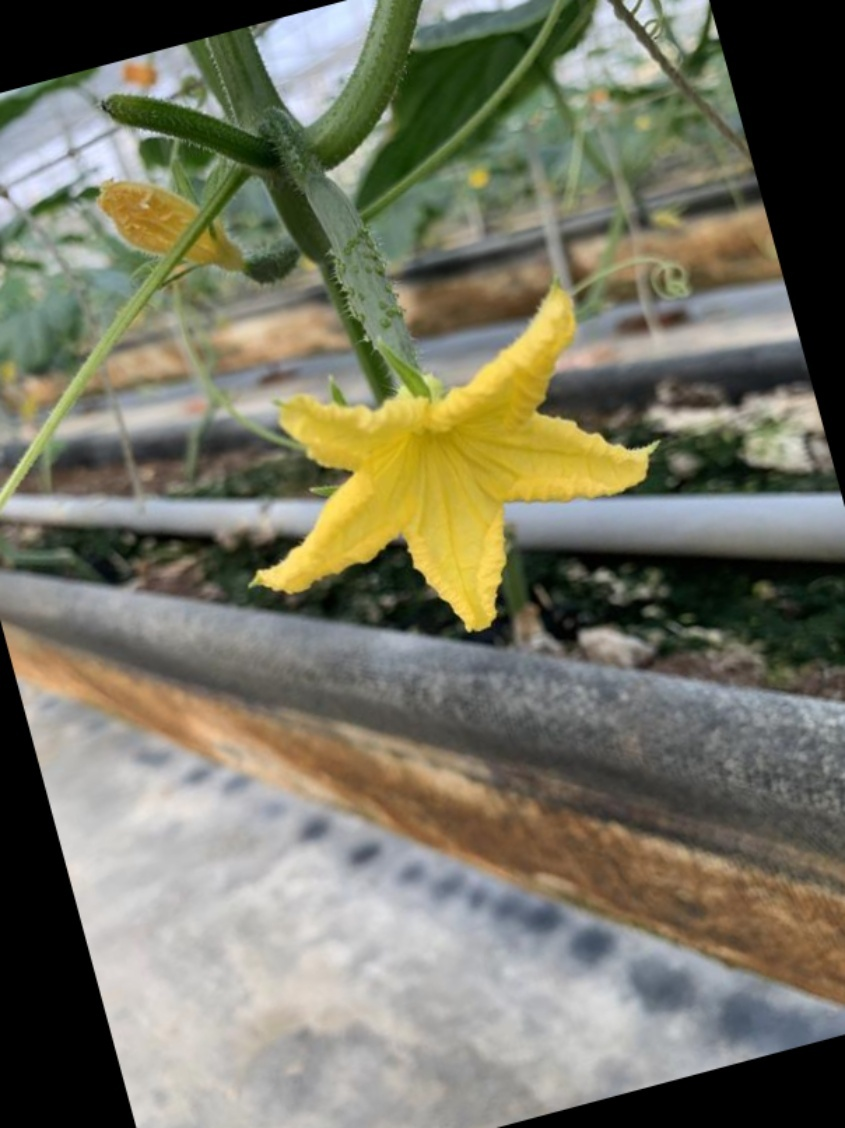flowering: (172, 145, 658, 633)
